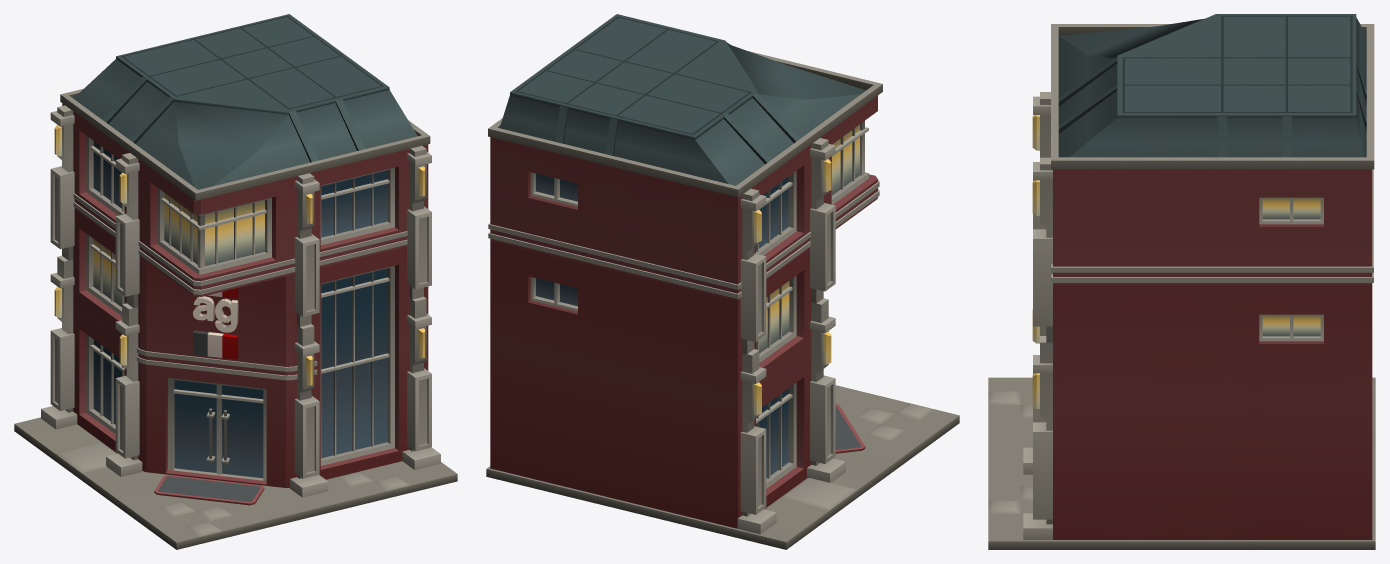
The model's file is Building_7C.fbx.
3 views of the same model, side by side, from view 1: azimuth 30°, elevation 25°; view 2: azimuth 150°, elevation 25°; view 3: azimuth 270°, elevation 25° (orthographic). The views are drawn at different scales.
Parts seen in each view (by area): view 1: Building_7C, Building_7C_Window_Lights, Building_7C_Logo; view 2: Building_7C, Building_7C_Window_Lights; view 3: Building_7C, Building_7C_Window_Lights.
Part boxes in pixels (bbox=[...]): Building_7C: bbox=[14, 14, 457, 549]; Building_7C_Window_Lights: bbox=[93, 193, 264, 306]; Building_7C_Logo: bbox=[193, 288, 238, 359]; Building_7C: bbox=[486, 14, 959, 549]; Building_7C_Window_Lights: bbox=[758, 124, 859, 353]; Building_7C: bbox=[988, 14, 1375, 549]; Building_7C_Window_Lights: bbox=[1262, 198, 1320, 336].
Size of the model in its own units: 1200 by 1460 by 1200.
